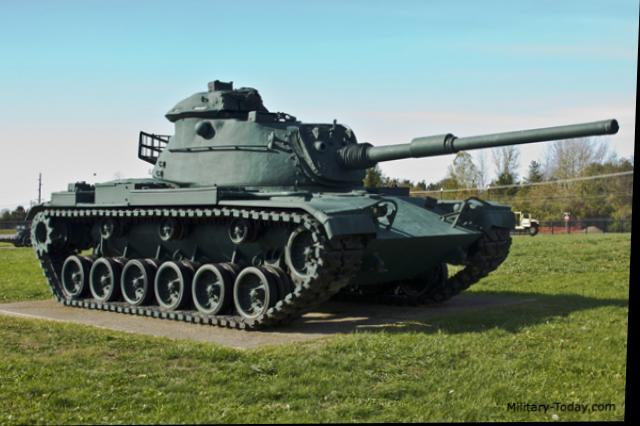tank: (25, 68, 505, 337)
